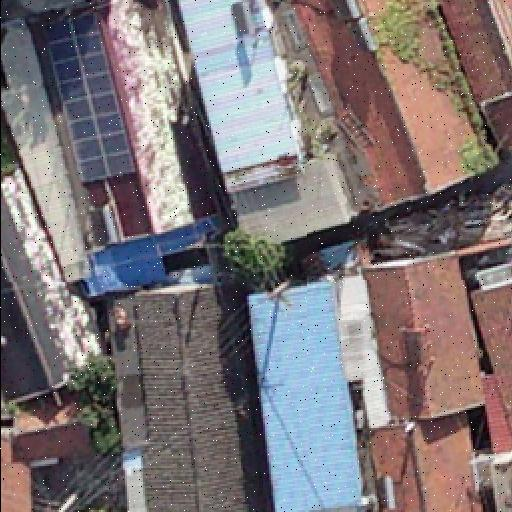solar-panel: (44, 9, 136, 201)
